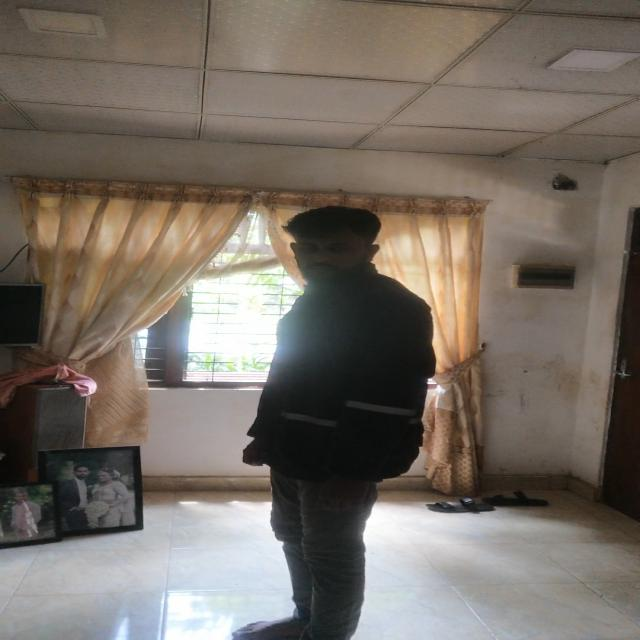Jacket_Wearer: (238, 268, 446, 482)
Person: (237, 206, 440, 640)
